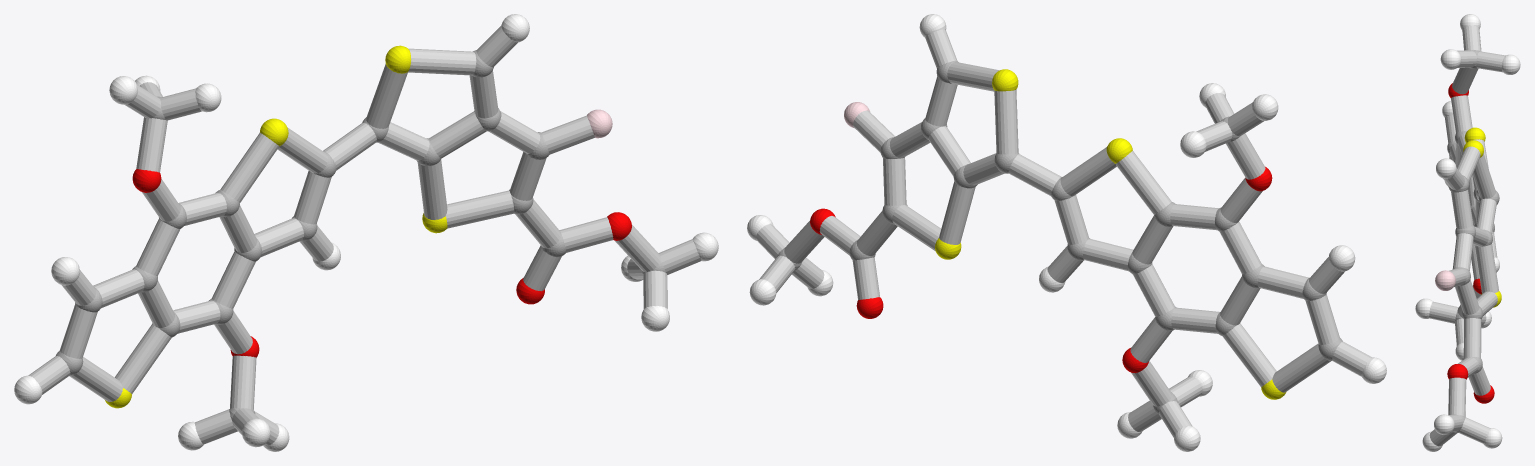
The model's file is Dimethoxy_Benzodithiophene_Phi_25_Theta_180_Methylcarbonyl_3_Fluoro_Thienothiophene.glb.
The picture shows the model from 3 angles, left to right: view 1: azimuth 30°, elevation 25°; view 2: azimuth 150°, elevation 25°; view 3: azimuth 270°, elevation 25°; orthographic projection. The views are drawn at different scales.
Parts seen in each view (by area): view 1: grp15205, grp8689, grp1, grp7241, grp13395; view 2: grp15205, grp8689, grp1, grp7241, grp13395; view 3: grp15205, grp8689, grp1, grp13395, grp7241, grp14843.
Part boxes in pixels (box(x1,y1,x2,y2)): grp15205: box(28, 26, 701, 445); grp8689: box(14, 14, 718, 451); grp1: box(56, 50, 665, 430); grp7241: box(105, 45, 447, 408); grp13395: box(132, 169, 631, 357); grp15205: box(756, 29, 1371, 437); grp8689: box(747, 14, 1386, 451); grp1: box(777, 60, 1342, 414); grp7241: box(935, 69, 1286, 399); grp13395: box(810, 166, 1272, 373); grp15205: box(1429, 25, 1505, 446); grp8689: box(1415, 14, 1520, 451); grp1: box(1447, 50, 1499, 432); grp13395: box(1447, 83, 1494, 403); grp7241: box(1463, 127, 1501, 307); grp14843: box(1435, 270, 1455, 290).
Bounding box in the file's own units: 16.64 × 9.34 × 3.03.
